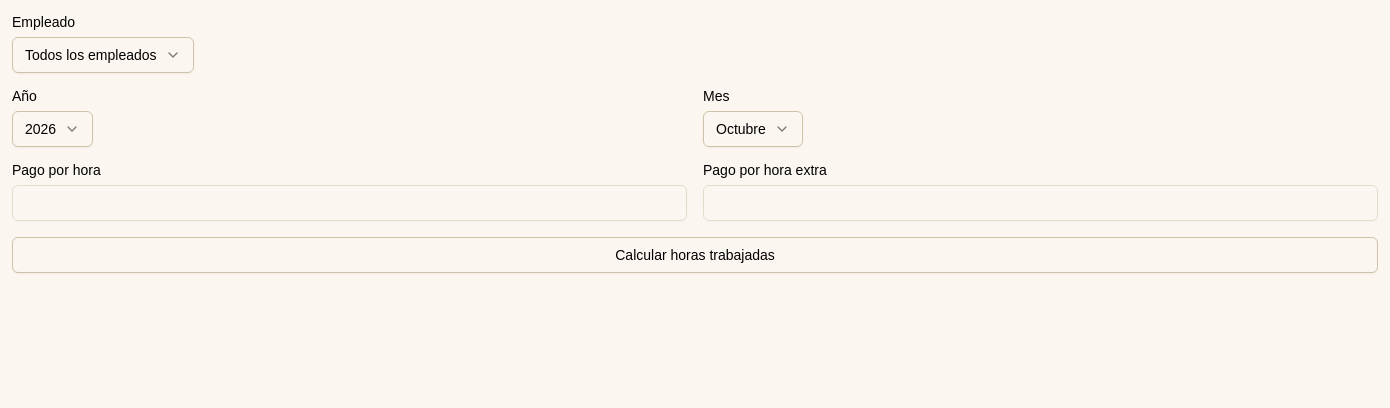
Test: LiquidarTab › calculates and displays hours when calculate button is clicked
Click the button "Calcular horas trabajadas".
click(695, 255)  # box 12,237 -> 1378,273
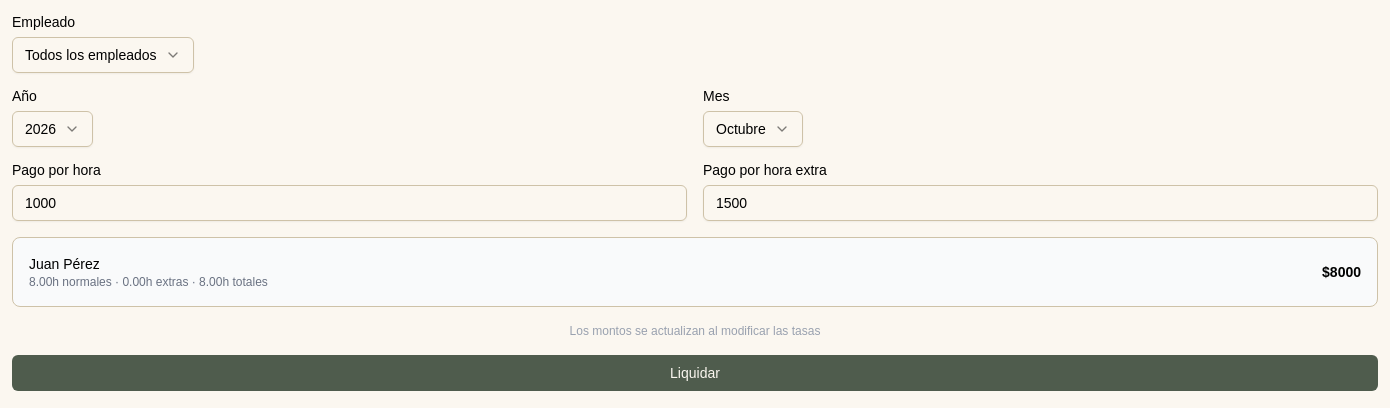
expect the text "Juan Pérez" is shown: met, box 29,256 -> 100,272
expect the text "8.00h normales · 0.00h extras · 8.00h totales" is shown: met, box 29,274 -> 268,290
expect the button "Liquidar" is shown: met, box 12,355 -> 1378,391
